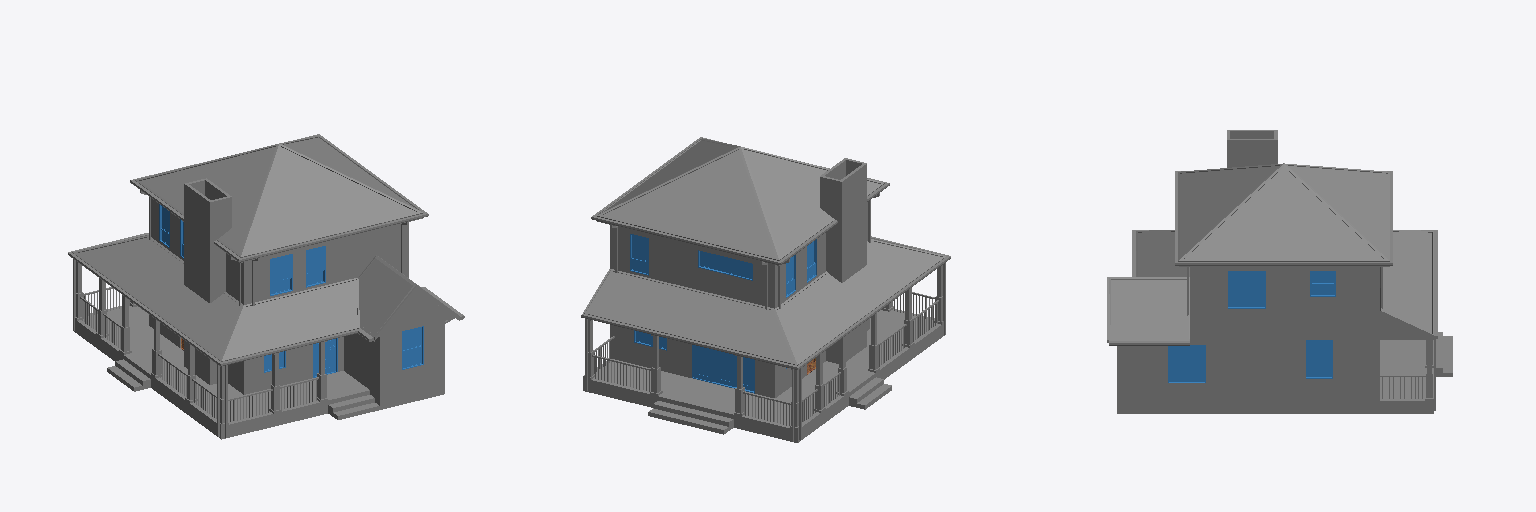
3 views of the same model, side by side, from view 1: azimuth 30°, elevation 25°; view 2: azimuth 150°, elevation 25°; view 3: azimuth 270°, elevation 25° (orthographic).
Visible parts, largest first — view 1: 247obj05, 247obj32, 247obj07, 247obj09, 247obj01, 247obj34, 247obj06, 247obj28, 247obj02, 247obj31, 247obj04, 247obj30 (+6 smaller); view 2: 247obj32, 247obj05, 247obj07, 247obj34, 247obj01, 247obj06, 247obj09, 247obj02, 247obj16, 247obj30, 247obj31, 247obj04 (+4 smaller); view 3: 247obj05, 247obj09, 247obj01, 247obj07, 247obj32, 247obj28, 247obj02, 247obj06, 247obj20, 247obj04, 247obj18, 247obj17 (+7 smaller).
Boxes of the visible parts, box(x1,y1,x2,y2) form: 247obj05: box(140, 137, 416, 254); 247obj32: box(77, 235, 357, 358); 247obj07: box(74, 306, 444, 439); 247obj09: box(149, 289, 444, 396); 247obj01: box(151, 198, 408, 304); 247obj34: box(75, 261, 327, 426); 247obj06: box(184, 178, 231, 384); 247obj28: box(359, 259, 412, 334); 247obj02: box(135, 135, 423, 257); 247obj31: box(72, 234, 359, 361); 247obj04: box(130, 134, 428, 262); 247obj30: box(68, 233, 357, 366); 247obj32: box(586, 239, 941, 362); 247obj05: box(603, 140, 879, 257); 247obj07: box(583, 309, 944, 442); 247obj34: box(583, 265, 943, 429); 247obj01: box(610, 202, 867, 308); 247obj06: box(820, 158, 866, 363); 247obj09: box(610, 318, 869, 397); 247obj02: box(596, 138, 884, 260); 247obj16: box(692, 345, 754, 393); 247obj30: box(581, 236, 950, 369); 247obj31: box(583, 238, 945, 365); 247obj04: box(591, 137, 889, 264); 247obj05: box(1180, 166, 1387, 258); 247obj09: box(1117, 332, 1379, 400); 247obj01: box(1190, 267, 1379, 331); 247obj07: box(1117, 340, 1433, 413); 247obj32: box(1138, 232, 1431, 332); 247obj28: box(1111, 280, 1187, 338); 247obj02: box(1178, 163, 1389, 261); 247obj06: box(1227, 130, 1277, 167); 247obj20: box(1228, 271, 1265, 308); 247obj04: box(1175, 171, 1392, 265); 247obj18: box(1168, 345, 1205, 382); 247obj17: box(1306, 340, 1332, 378).
Bounding box in the file's own units: 358 × 292 × 436.
Materials: 7 (1 with a texture image).